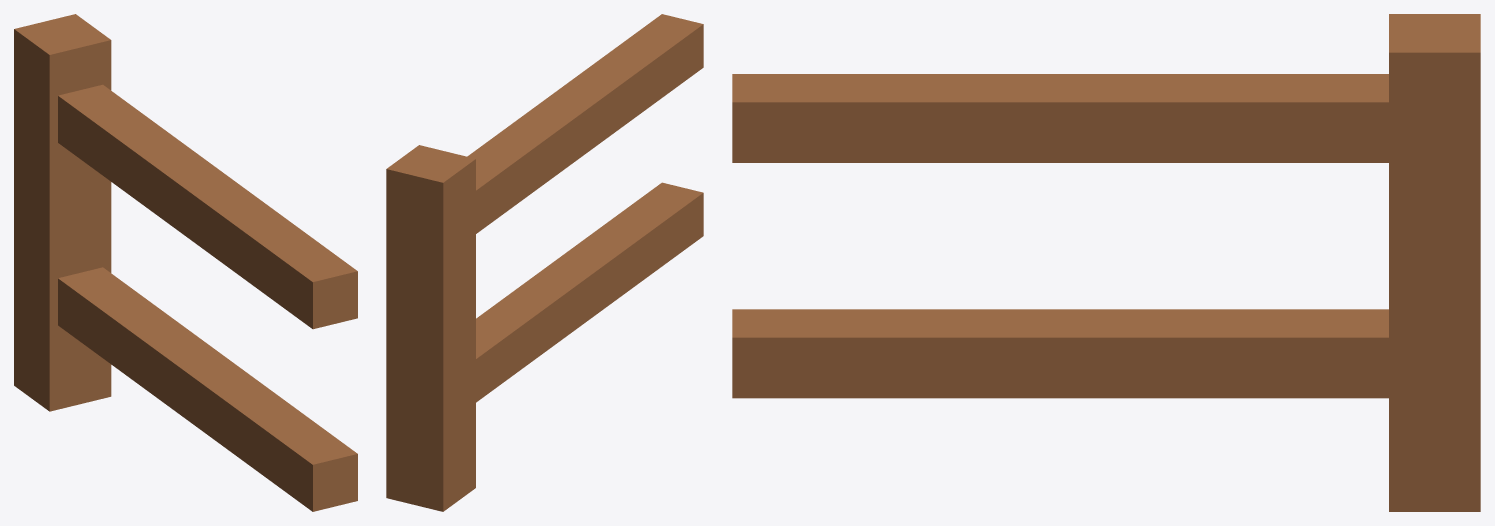
File: blocking_fens.fbx
3 views of the same model, side by side, from view 1: azimuth 30°, elevation 25°; view 2: azimuth 150°, elevation 25°; view 3: azimuth 270°, elevation 25° (orthographic). The views are drawn at different scales.
Parts seen in each view (by area): view 1: blocking_fens; view 2: blocking_fens; view 3: blocking_fens.
Boxes of the visible parts, <box> form: blocking_fens: <box>14,14,357,511</box>; blocking_fens: <box>386,14,703,511</box>; blocking_fens: <box>732,14,1480,511</box>.
Size of the model in its own units: 20.63 by 114 by 169.
